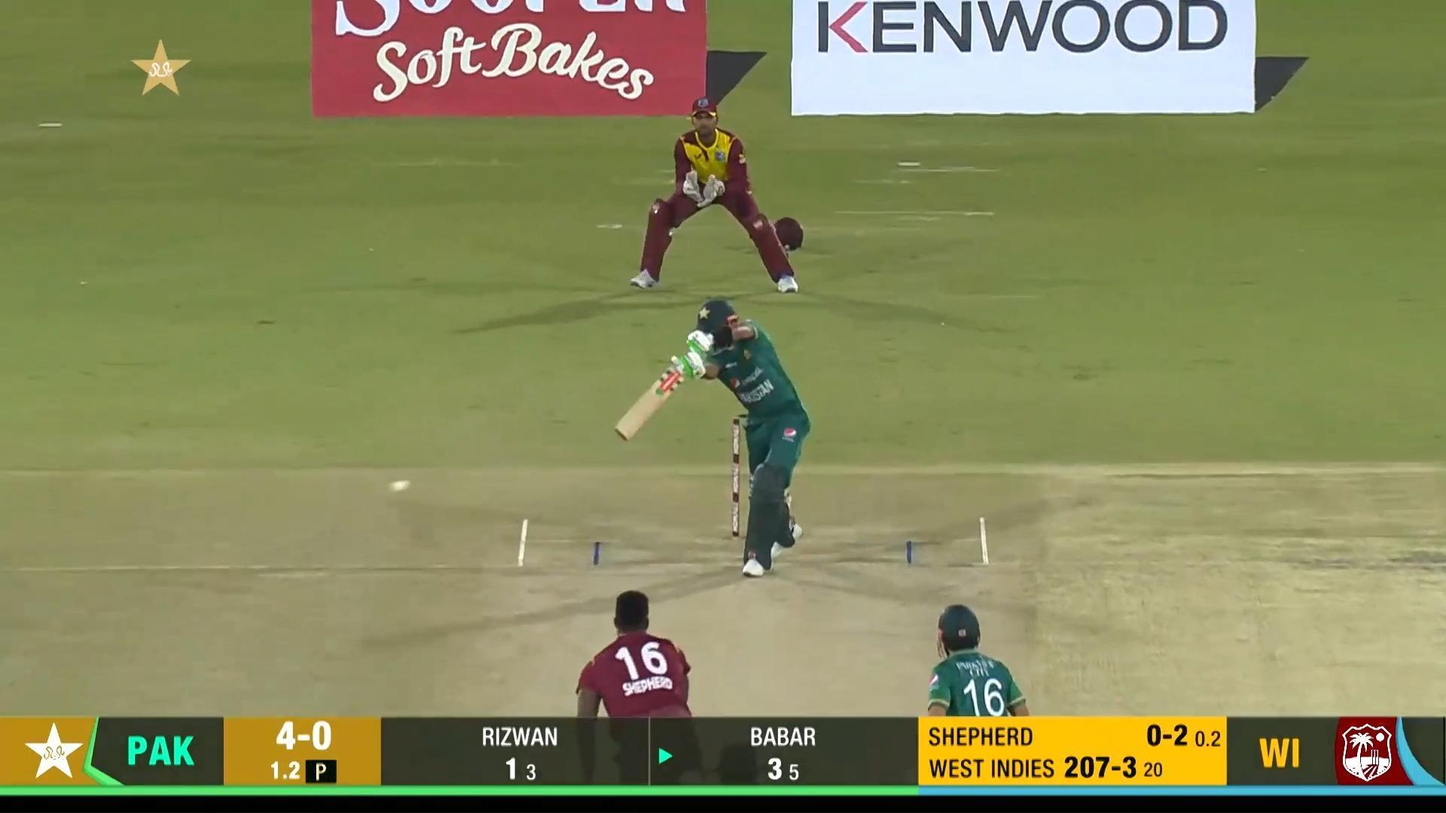BM 1: (615, 298, 813, 578)
BO: (575, 588, 693, 717)
